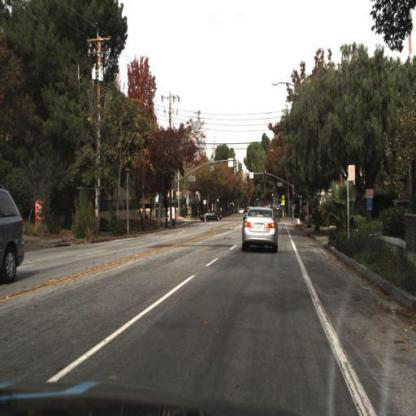car: (1, 178, 28, 288), (235, 200, 285, 257), (241, 203, 283, 254), (195, 206, 226, 229), (199, 210, 225, 228)
trafficLight-Red: (245, 169, 253, 187), (292, 184, 300, 202), (263, 167, 270, 184)
